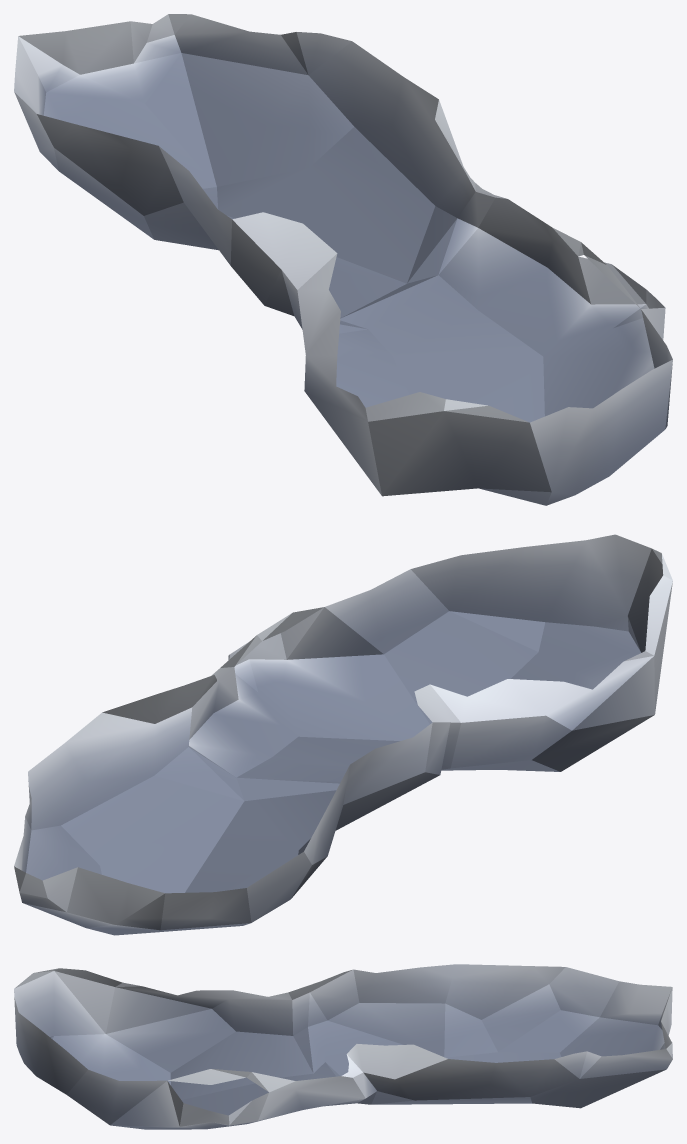
File: Terrain_Stage2_Decoration_2.fbx
3 views of the same model, one above another, from view 1: azimuth 30°, elevation 25°; view 2: azimuth 150°, elevation 25°; view 3: azimuth 270°, elevation 25° (orthographic). The views are drawn at different scales.
Parts seen in each view (by area): view 1: terrain_bridge_402_LOD0 #1404481; view 2: terrain_bridge_402_LOD0 #1404481; view 3: terrain_bridge_402_LOD0 #1404481.
Boxes of the visible parts, bbox=[...] form: terrain_bridge_402_LOD0 #1404481: bbox=[14, 14, 672, 505]; terrain_bridge_402_LOD0 #1404481: bbox=[14, 534, 672, 935]; terrain_bridge_402_LOD0 #1404481: bbox=[14, 964, 672, 1129].
Bounding box in the file's own units: 701 × 346 × 1709.
1 material, 1 textured.
